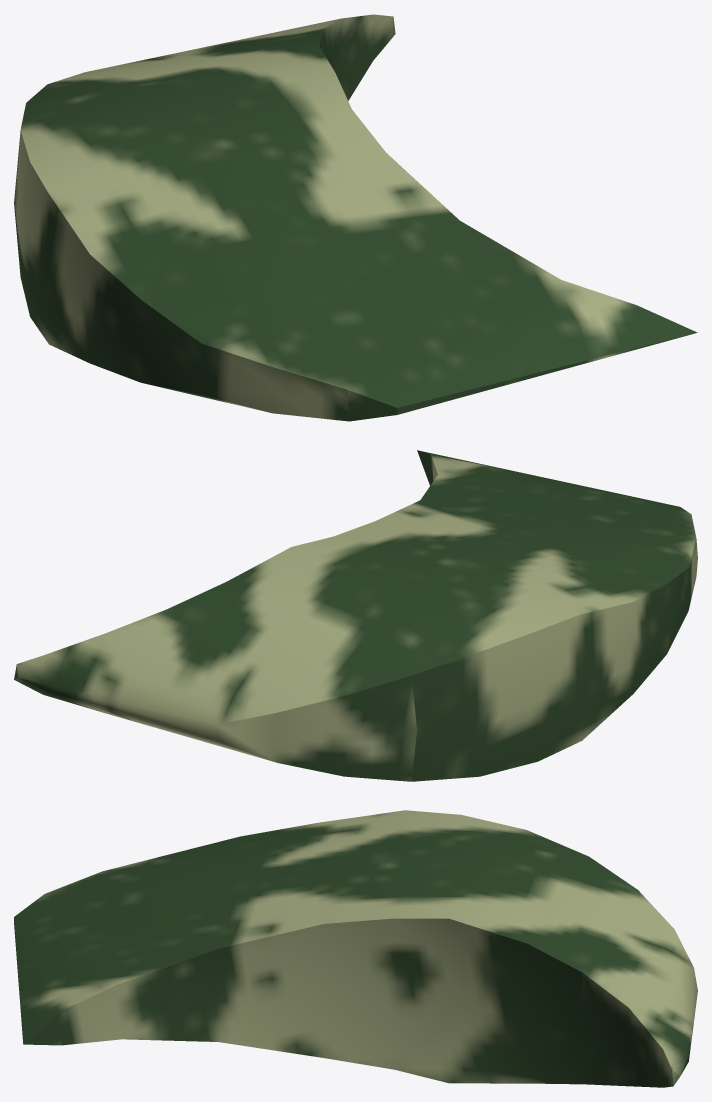
The model's file is link_body_34.obj.
3 views of the same model, one above another, from view 1: azimuth 30°, elevation 25°; view 2: azimuth 150°, elevation 25°; view 3: azimuth 270°, elevation 25° (orthographic). The views are drawn at different scales.
Visible parts, largest first — view 1: link_body_34; view 2: link_body_34; view 3: link_body_34.
Boxes of the visible parts, x1,y1,x2,y2 form: link_body_34: [14, 14, 697, 421]; link_body_34: [14, 450, 697, 781]; link_body_34: [14, 810, 697, 1087].
Size of the model in its own units: 7.24 by 2.61 by 9.83.
